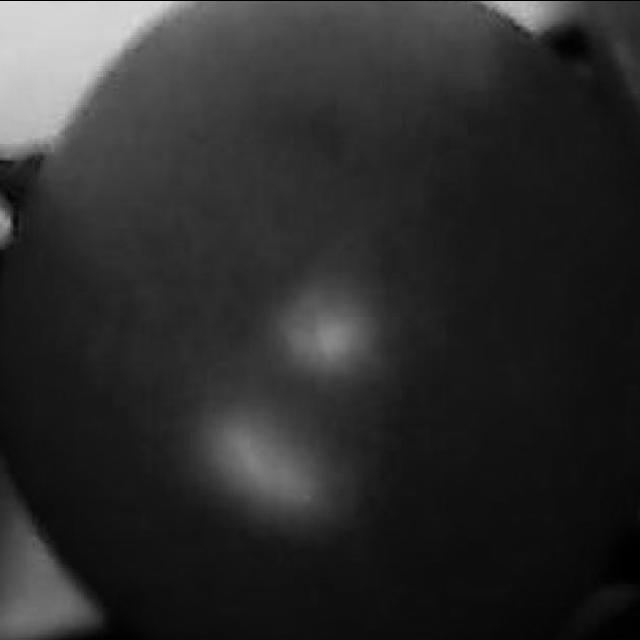Healthy: (0, 0, 626, 628)
